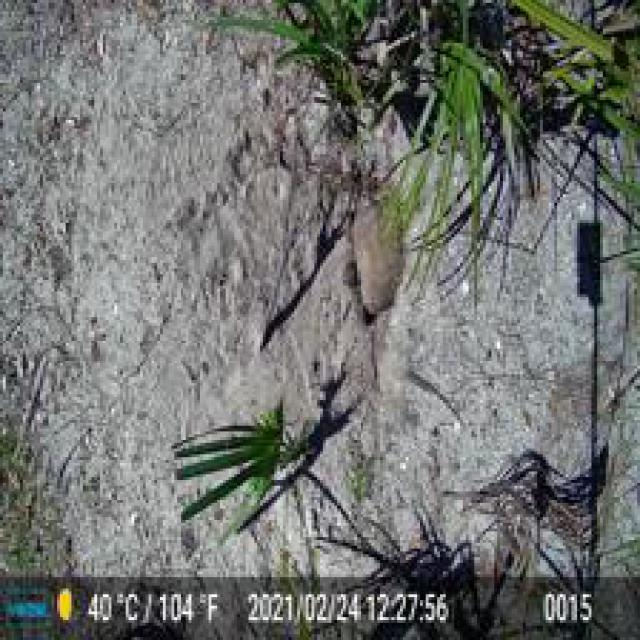tortoise: (343, 188, 408, 323)
